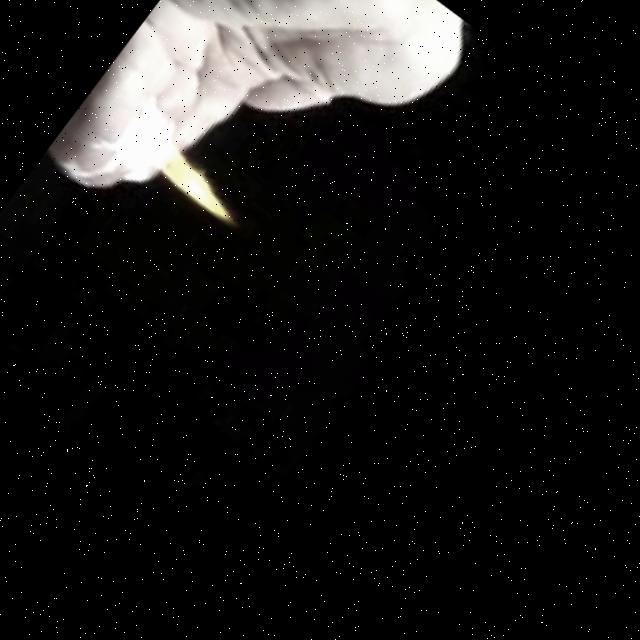Fire: (133, 125, 261, 236)
